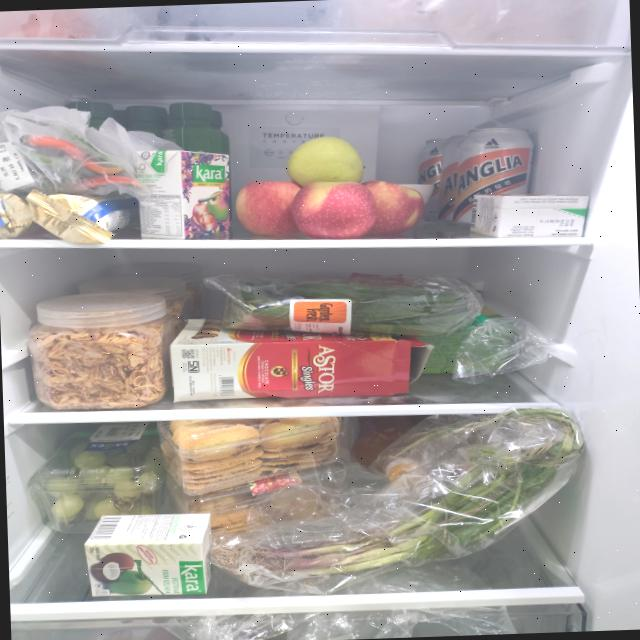apple: (232, 132, 426, 243)
chili: (11, 108, 141, 195)
coconut_milk: (82, 511, 214, 598), (134, 146, 232, 241)
grape: (43, 434, 169, 524)
leafy_greens: (225, 271, 477, 343)
spring_onion: (206, 405, 589, 588)
